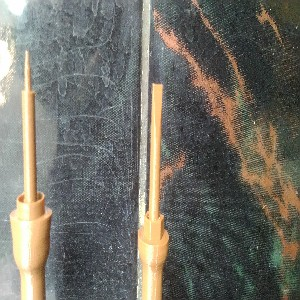obeng: (138, 83, 170, 300)
solder: (8, 49, 53, 300)
